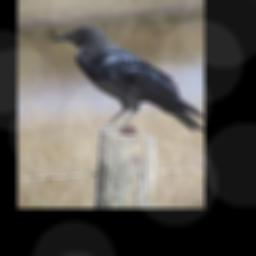Crow: (50, 24, 203, 134)
